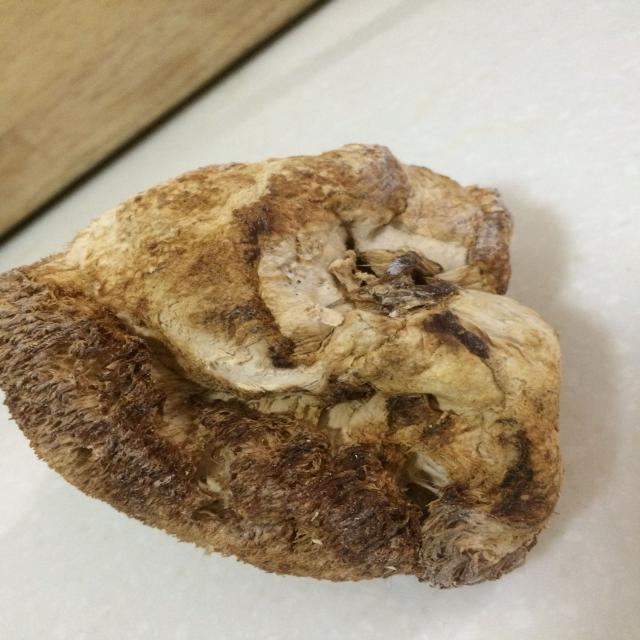Hericium erinaceus: (0, 147, 563, 585)
